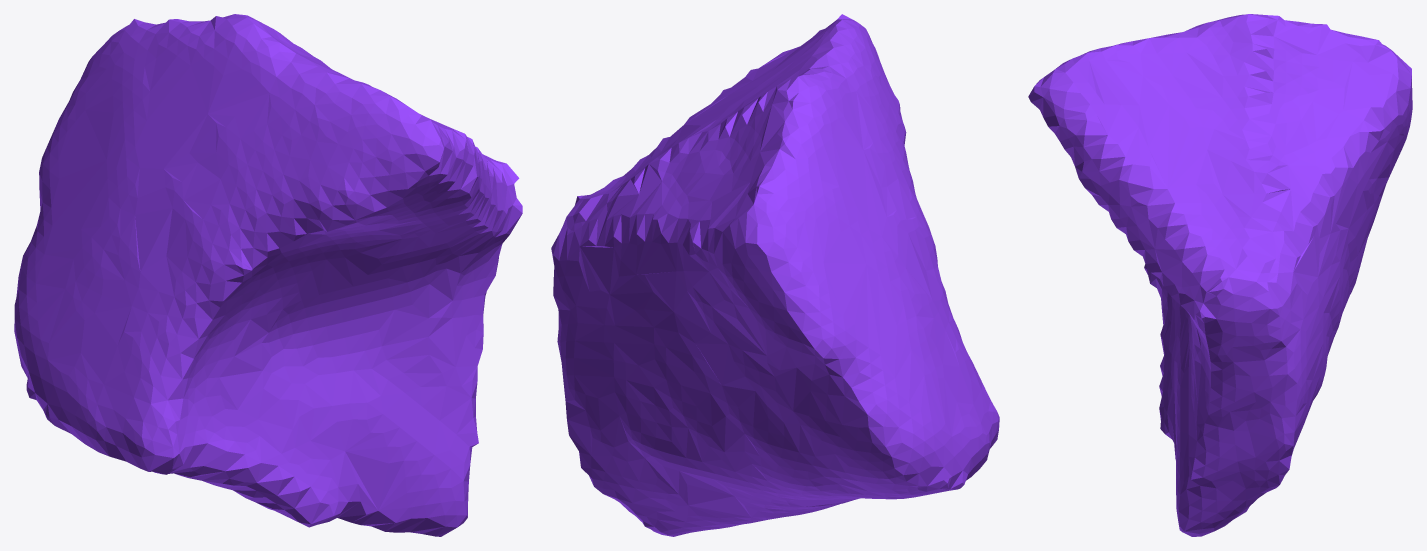
File: Model_10037_LH__Area_6_of_cortex__ventral__part_b_(A6Vb).obj
The picture shows the model from 3 angles, left to right: view 1: azimuth 30°, elevation 25°; view 2: azimuth 150°, elevation 25°; view 3: azimuth 270°, elevation 25°; orthographic projection. The views are drawn at different scales.
Bounding box in the file's own units: 2.56 × 2.99 × 2.29.
